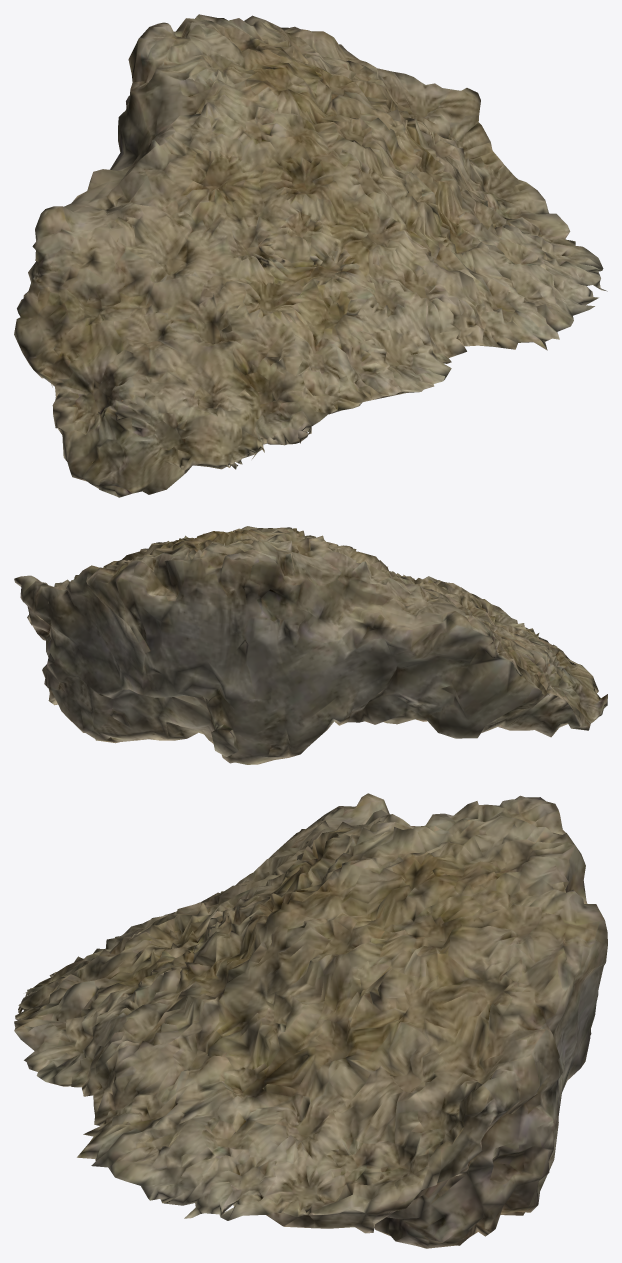
Rendered from dome.glb.
3 views of the same model, one above another, from view 1: azimuth 30°, elevation 25°; view 2: azimuth 150°, elevation 25°; view 3: azimuth 270°, elevation 25° (orthographic). The views are drawn at different scales.
Bounding box in the file's own units: 97.5 × 45.82 × 77.34.
1 material, 1 textured.
